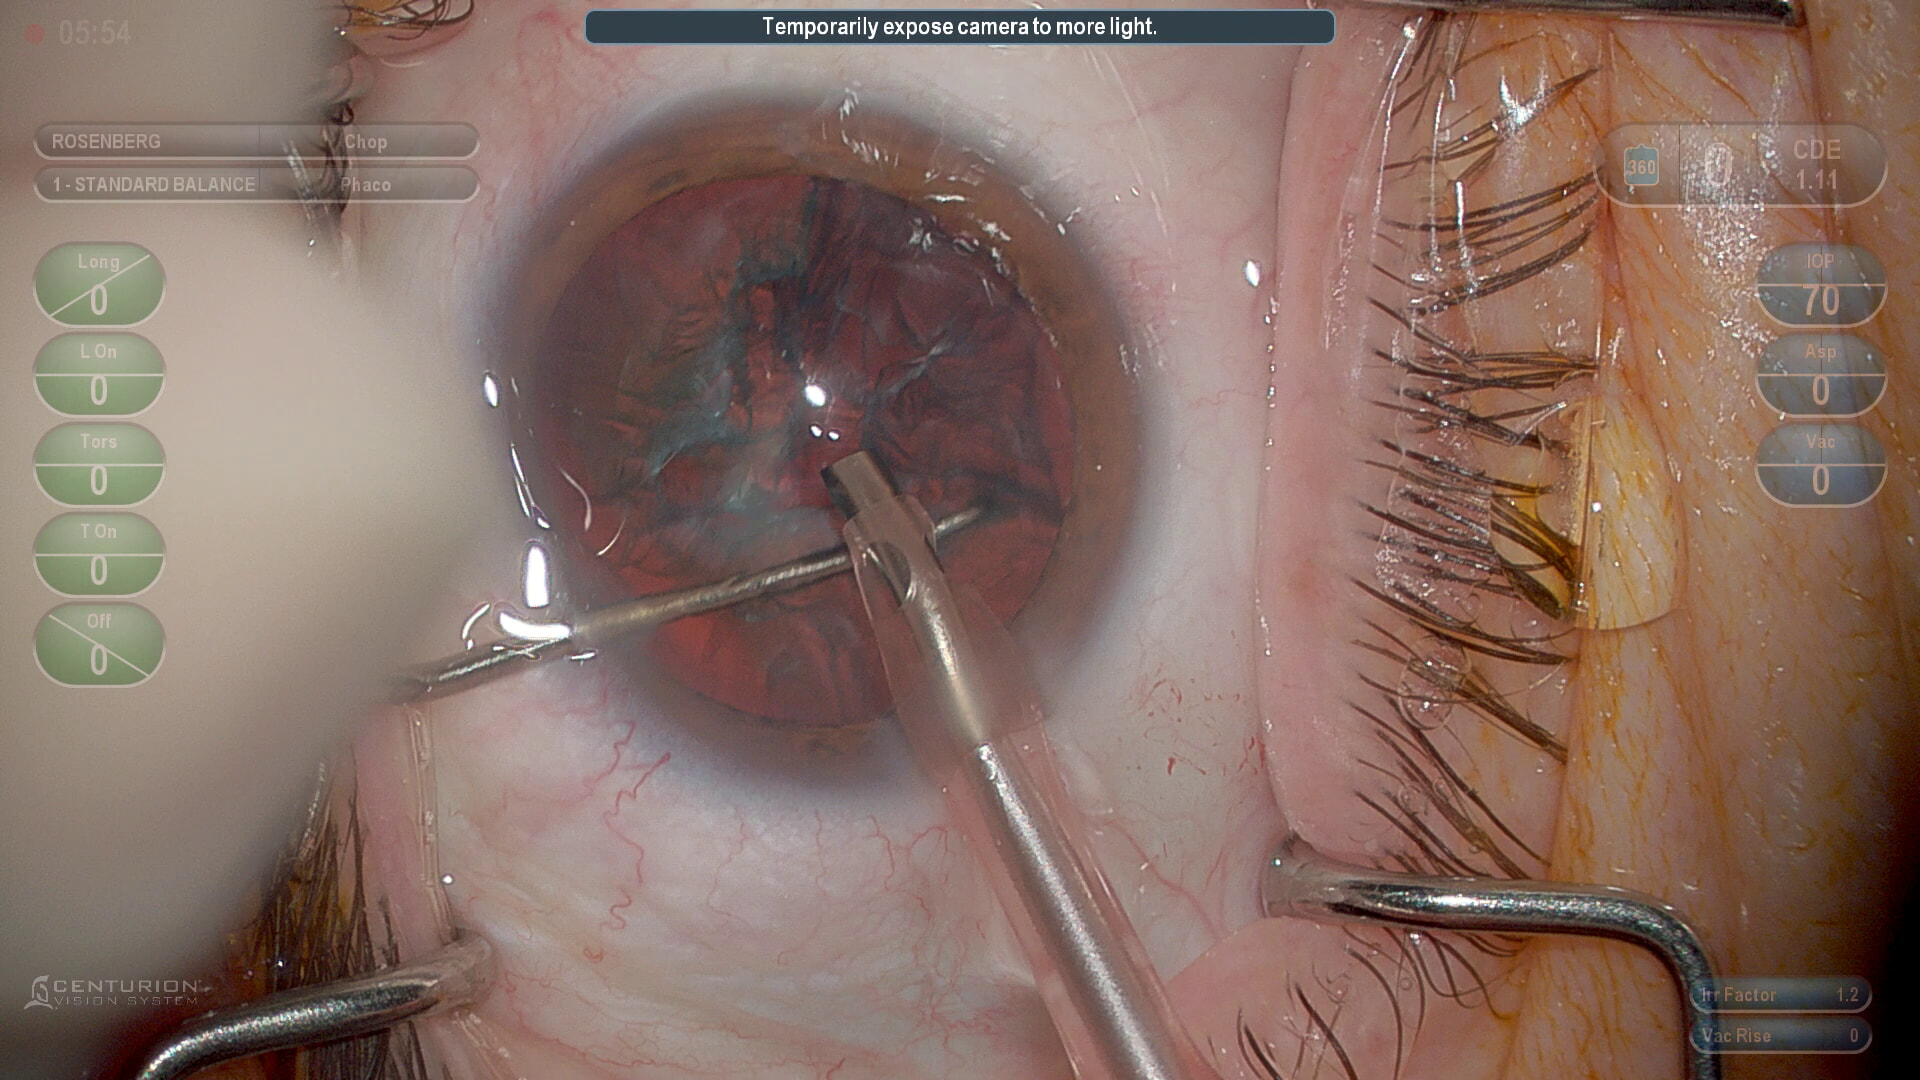iris: (506, 107, 1145, 777)
pupil: (537, 172, 1071, 721)
